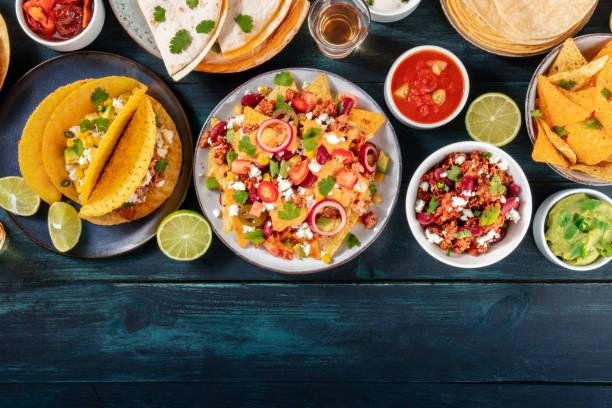Braised Crucian Carp: (193, 66, 399, 272), (1, 49, 192, 258), (406, 141, 534, 269)
